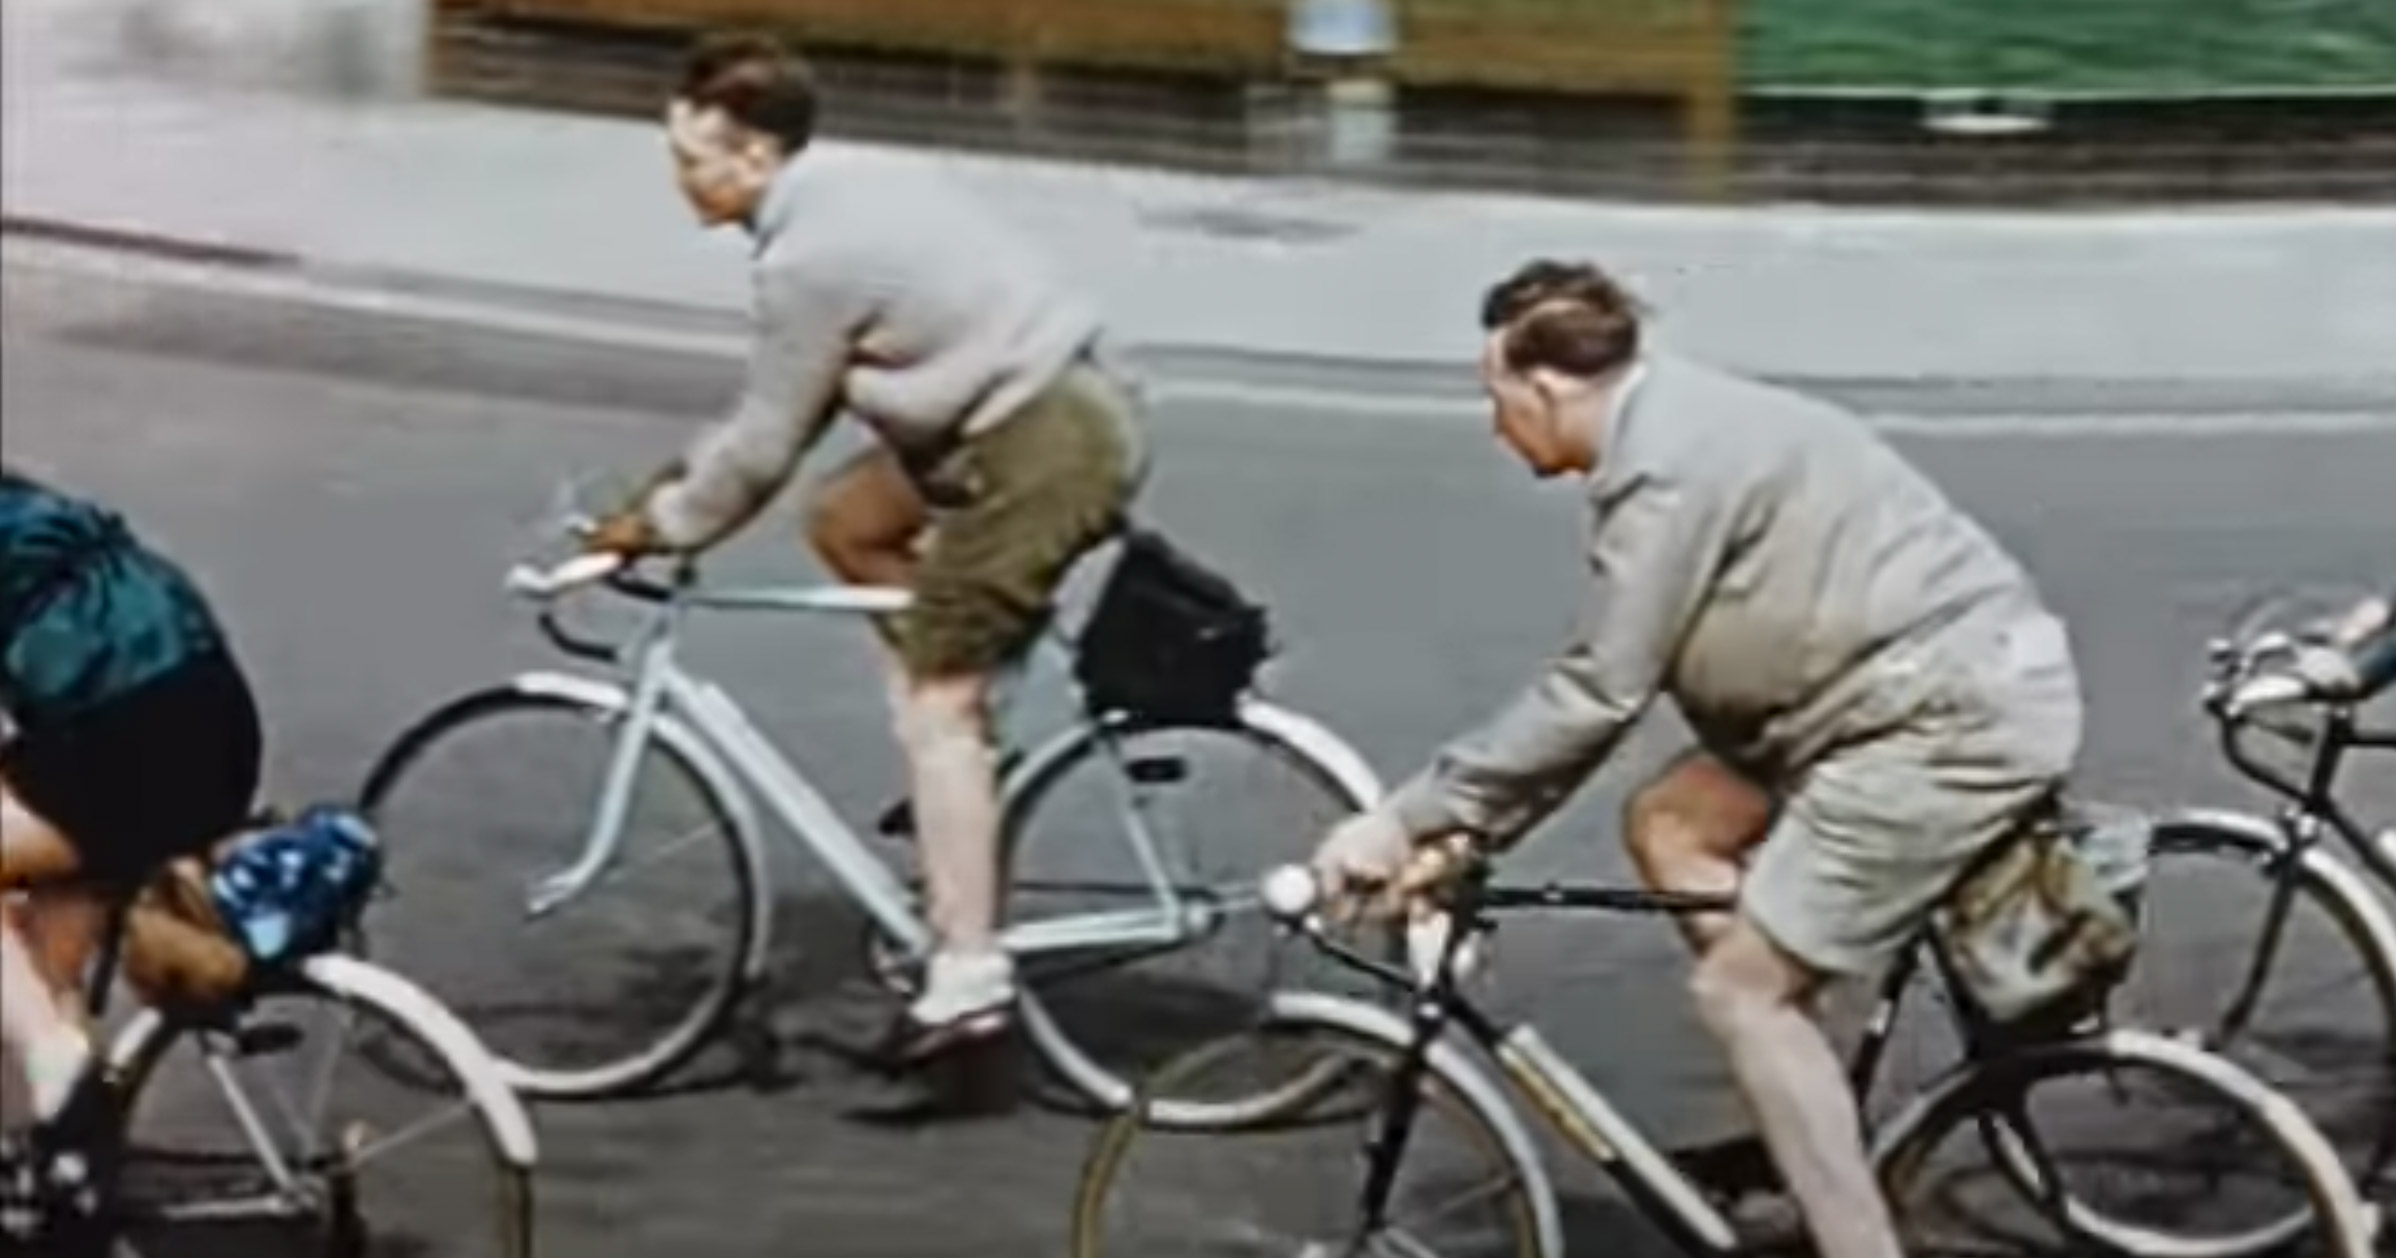commuter: (1074, 260, 2396, 1258), (336, 33, 1440, 1139)
